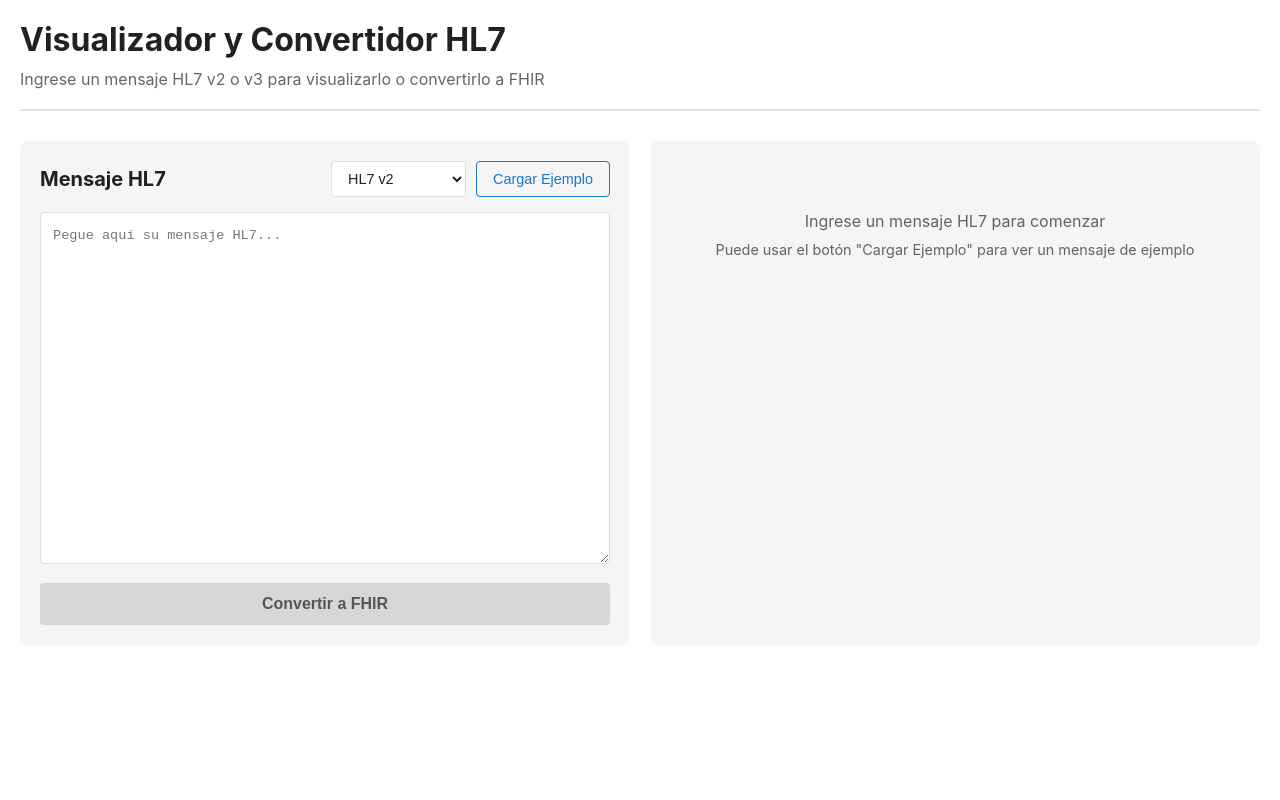
Test case: Hl7Page › shows error when fetch throws network error
The image size is (1280, 800).
In the text box with placeholder "Pegue aquí su mensaje HL7...": (325, 388) [40,212,610,564], type "MSH|DATA"
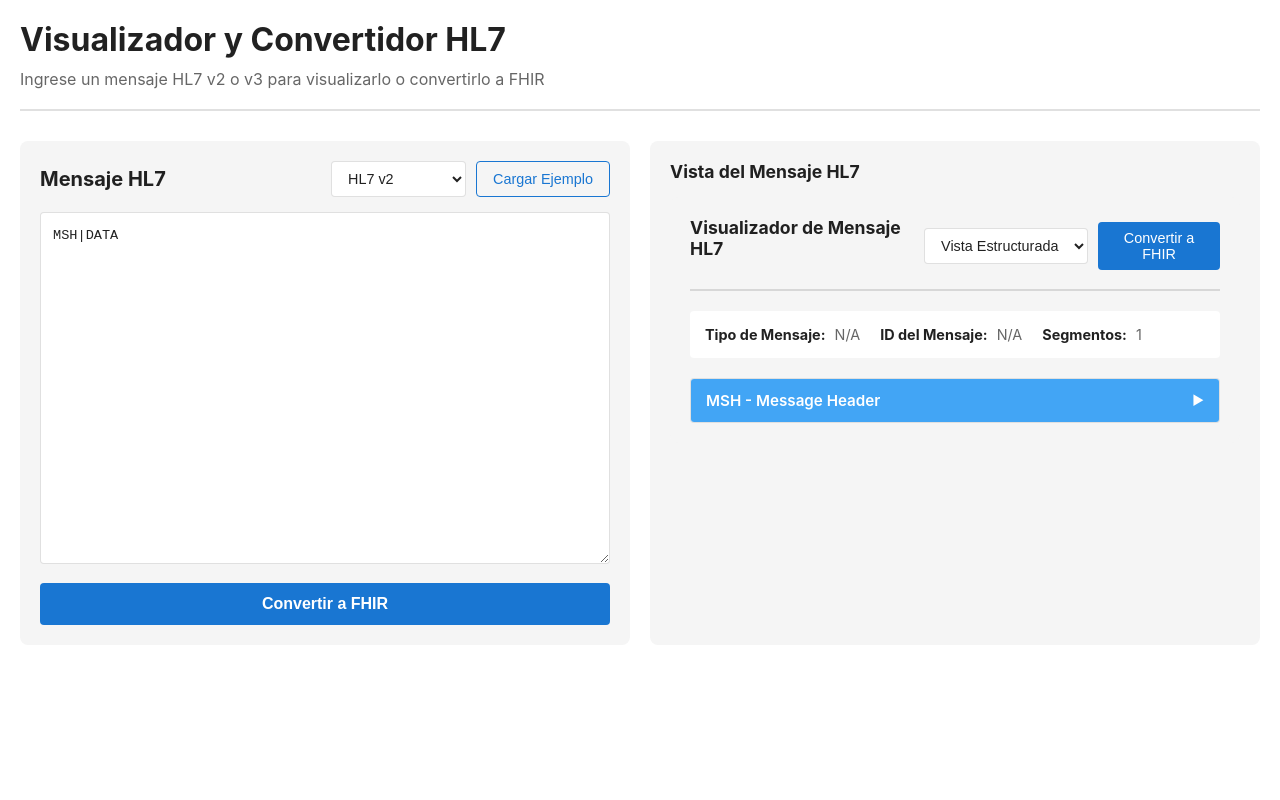
Click the button with class "hl7-convert-button": (325, 604) [40,583,610,625]
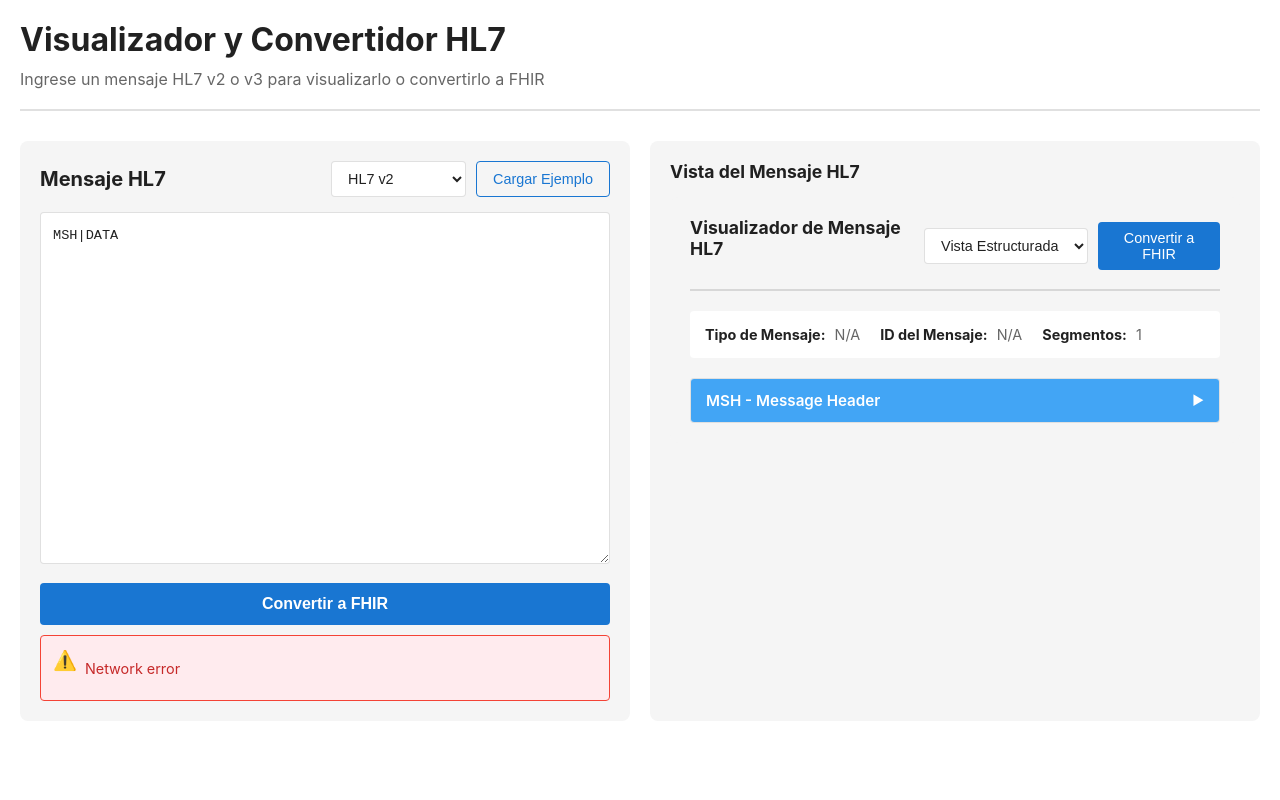
Check: the text "⚠️ Network error" is shown, box [40,635,610,701]
